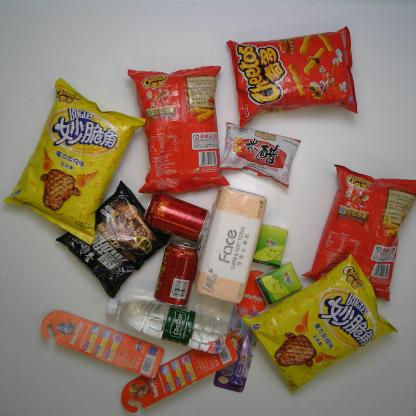Drink: (105, 298, 230, 355), (143, 193, 211, 243), (154, 240, 199, 311)
Instant Noodles: (55, 179, 174, 299)
Personal Hygiene: (120, 333, 238, 413), (40, 310, 165, 380), (212, 270, 268, 392)
Puffed Food: (1, 77, 148, 247), (241, 253, 400, 397), (300, 164, 416, 301), (225, 25, 359, 132), (126, 64, 229, 195)
Seasoner: (217, 121, 302, 189)
Tissue: (193, 186, 267, 305), (255, 262, 303, 305), (252, 224, 288, 268)
